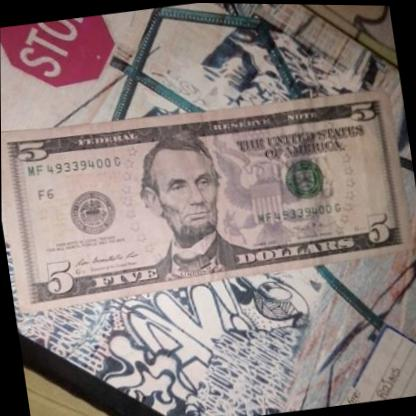five-front: (0, 77, 416, 314)
